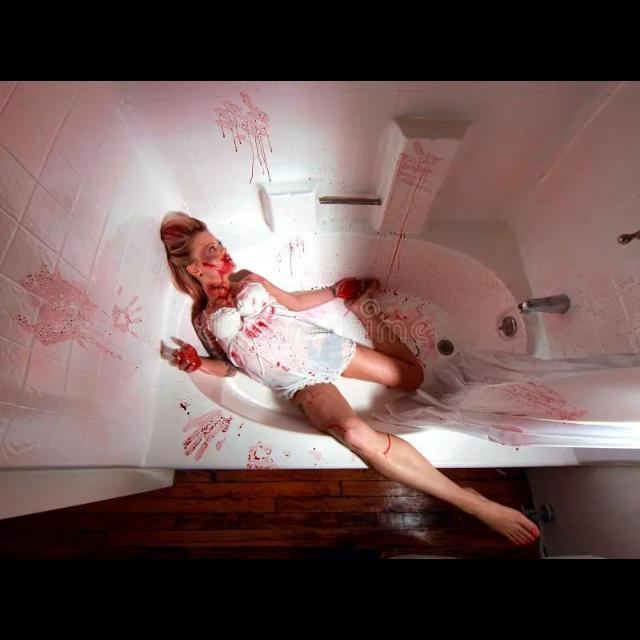blood: (15, 264, 142, 361), (386, 140, 443, 287), (489, 382, 588, 446), (378, 291, 444, 380), (214, 90, 273, 182), (186, 231, 245, 314), (243, 307, 291, 371), (182, 410, 232, 461), (331, 278, 377, 299), (246, 443, 278, 470), (175, 344, 202, 371), (289, 236, 305, 274), (383, 434, 392, 458), (215, 435, 227, 451), (180, 403, 186, 410)
